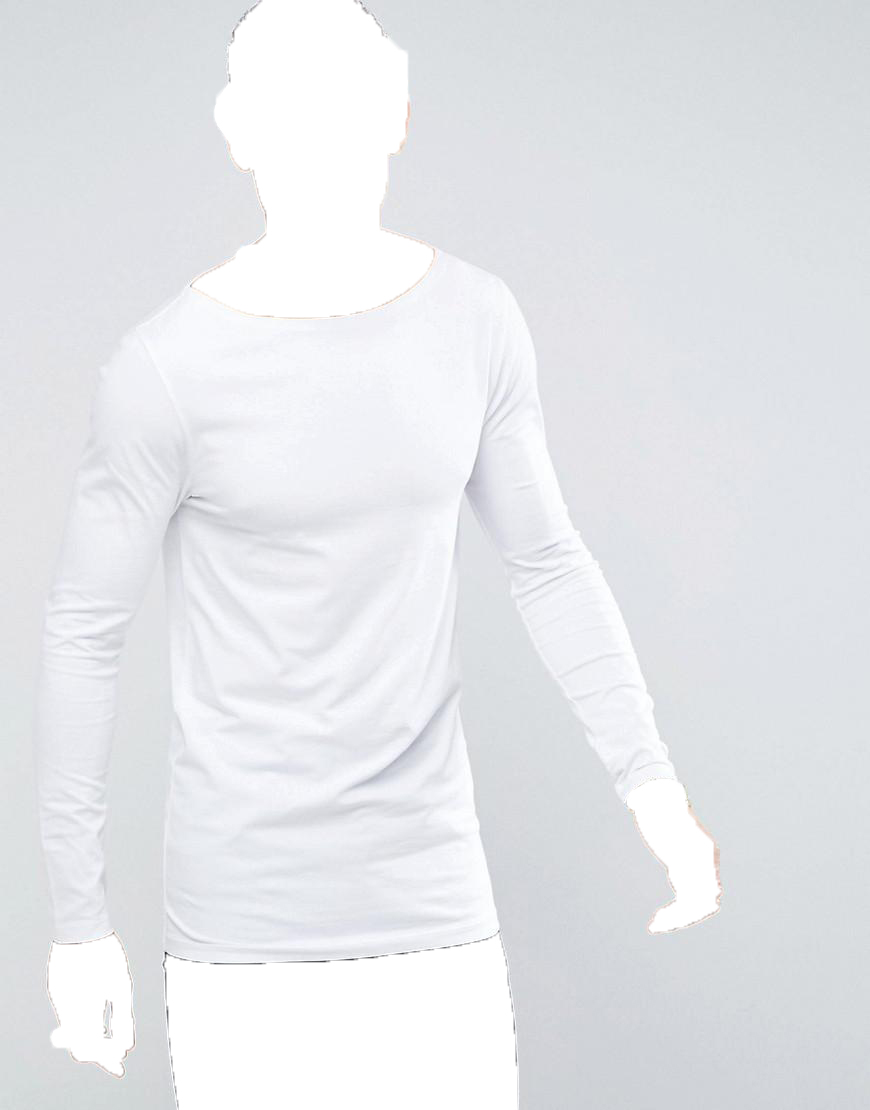teeshirt: (29, 249, 686, 961)
